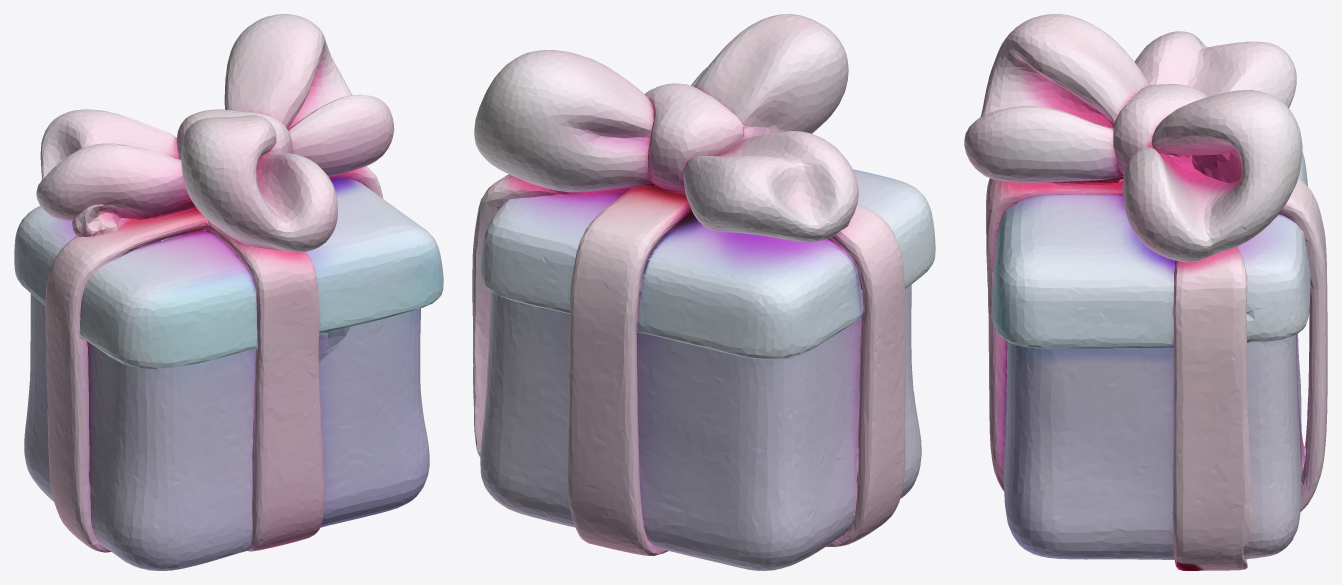
Rendered from prop_giftbox.glb.
The picture shows the model from 3 angles, left to right: view 1: azimuth 30°, elevation 25°; view 2: azimuth 150°, elevation 25°; view 3: azimuth 270°, elevation 25°; orthographic projection. The views are drawn at different scales.
Visible parts, largest first — view 1: world; view 2: world; view 3: world.
Boxes of the visible parts, left/top/right/bottom form: world: left=14, top=14, right=443, bottom=570; world: left=472, top=14, right=935, bottom=570; world: left=964, top=14, right=1327, bottom=570.
Bounding box in the file's own units: 0.8505 × 0.9989 × 0.7096.
Materials: 1 (1 with a texture image).
